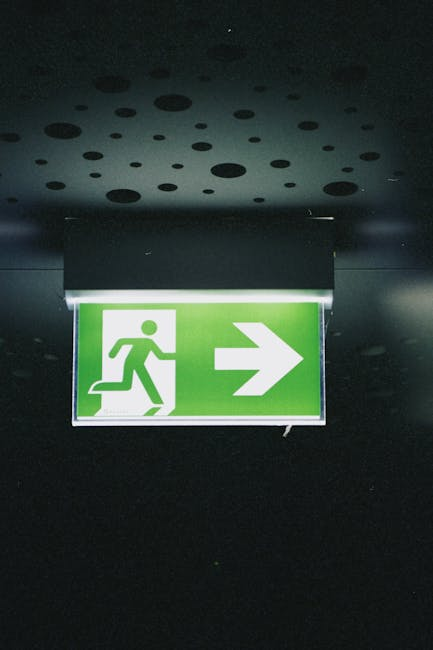emergency_exit: (62, 216, 337, 430), (69, 295, 328, 428)
